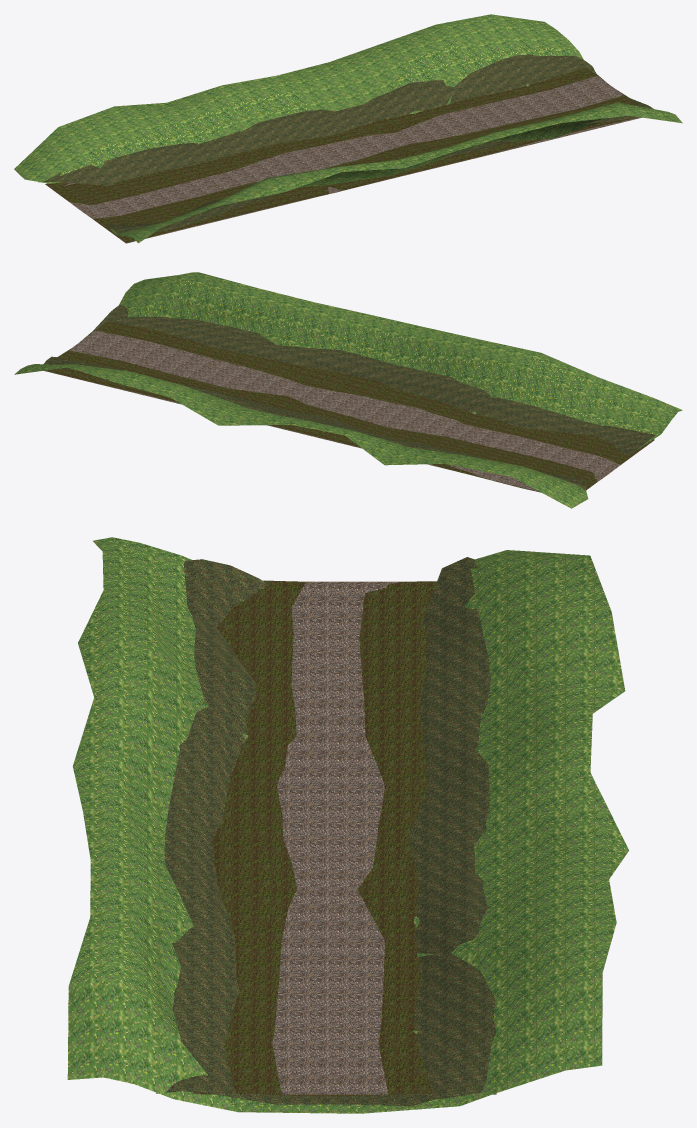
The model's file is ground.fbx.
The picture shows the model from 3 angles, top to bottom: view 1: azimuth 30°, elevation 25°; view 2: azimuth 150°, elevation 25°; view 3: azimuth 270°, elevation 25°; orthographic projection. The views are drawn at different scales.
Parts seen in each view (by area): view 1: Plane_3, Plane_2, Plane_1, Plane_4, Plane; view 2: Plane_3, Plane_2, Plane_1, Plane_4, Plane; view 3: Plane_3, Plane_2, Plane_1, Plane_4, Plane.
Part boxes in pixels (x1,y1,x2,y2): Plane_3: [14, 14, 682, 243]; Plane_2: [38, 54, 653, 236]; Plane_1: [48, 76, 641, 243]; Plane_4: [53, 70, 630, 237]; Plane: [45, 67, 637, 243]; Plane_3: [14, 272, 682, 508]; Plane_2: [43, 305, 655, 489]; Plane_1: [43, 330, 654, 491]; Plane_4: [62, 325, 647, 488]; Plane: [44, 321, 654, 492]; Plane_3: [67, 537, 628, 1113]; Plane_2: [156, 557, 495, 1106]; Plane_1: [195, 581, 495, 1094]; Plane_4: [201, 581, 435, 1095]; Plane: [174, 580, 496, 1096].
Size of the model in its own units: 3145 by 316 by 1388.
Materials: 4 (4 with a texture image).
